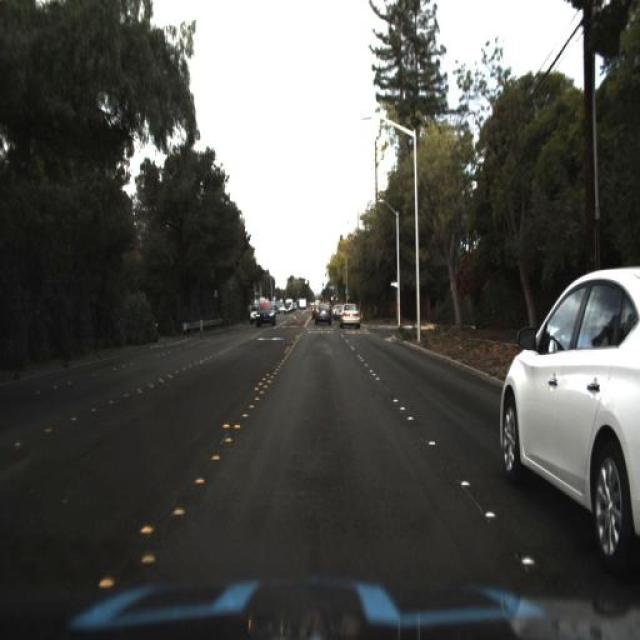car: (493, 252, 638, 568), (252, 298, 280, 332), (337, 298, 362, 333), (311, 298, 334, 328)
